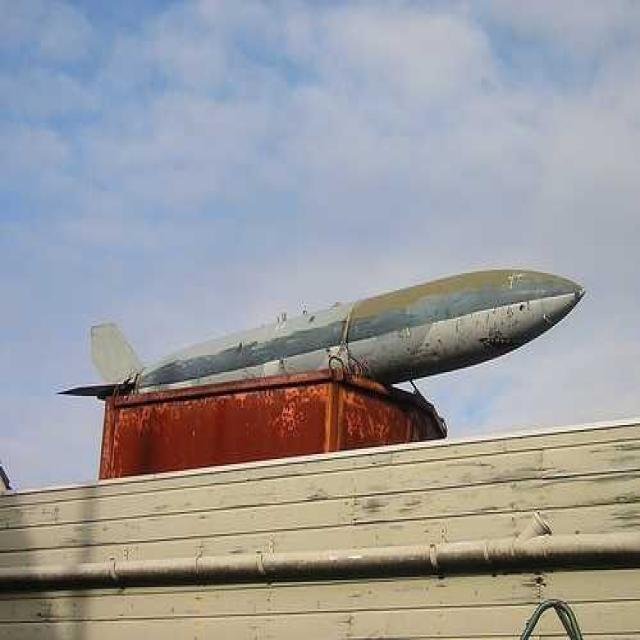missile: (66, 266, 586, 386)
